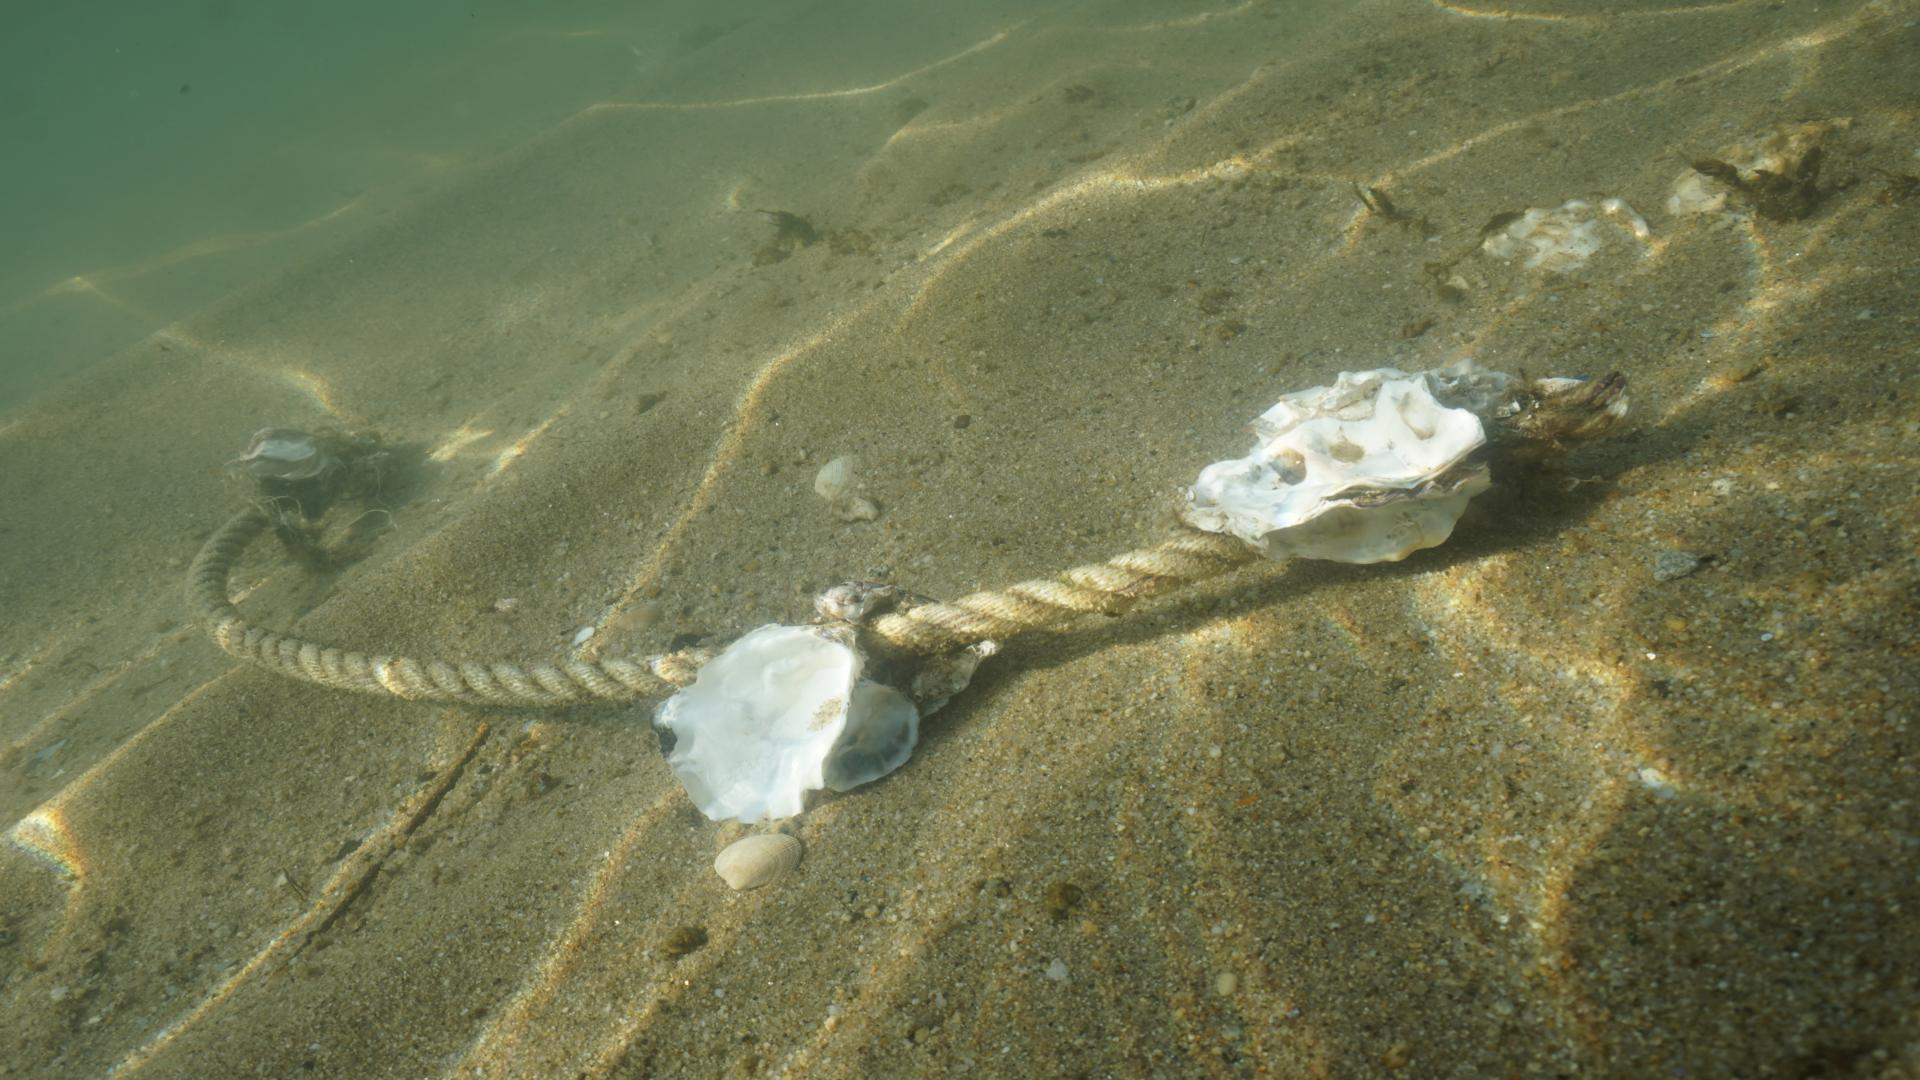rope: (177, 384, 1543, 713)
